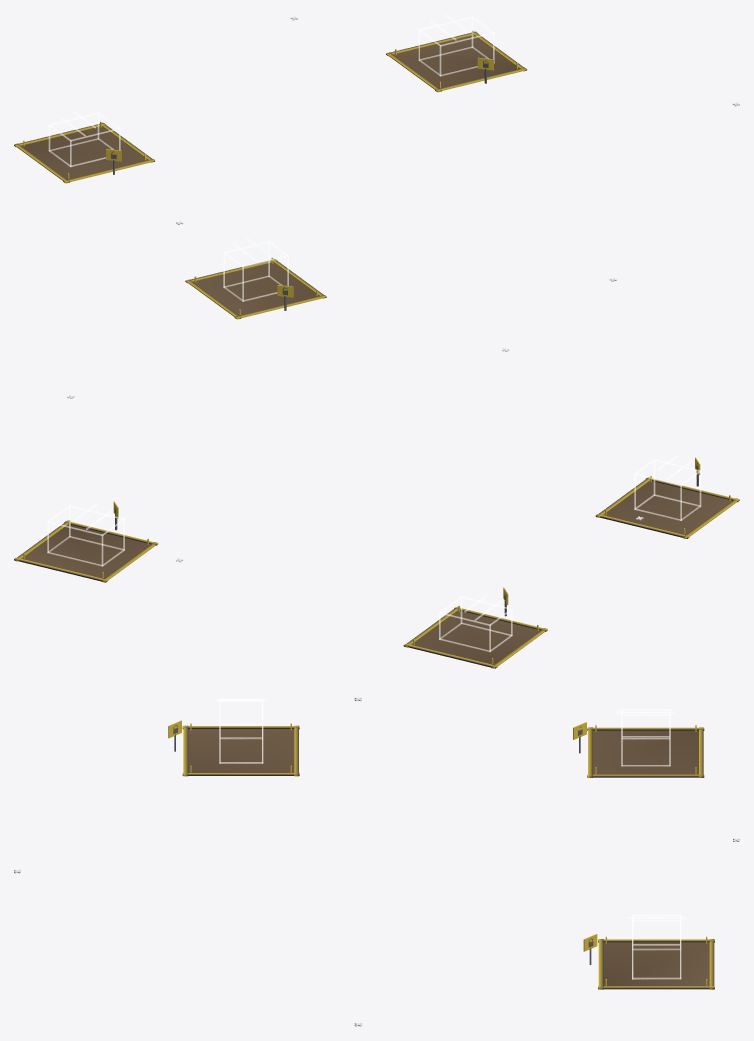
File: Sites_P1.fbx
The picture shows the model from 3 angles, top to bottom: view 1: azimuth 30°, elevation 25°; view 2: azimuth 150°, elevation 25°; view 3: azimuth 270°, elevation 25°; orthographic projection. The views are drawn at different scales.
Visible parts, largest first — view 1: Site.plant.Pad, Site.quarry.Pad, Site.store.Pad, Site.store.Ghost, Site.quarry.Ghost, Site.plant.Ghost; view 2: Site.store.Pad, Site.quarry.Pad, Site.plant.Pad, Site.store.Ghost, Site.plant.Ghost, Site.quarry.Ghost; view 3: Site.store.Pad, Site.quarry.Pad, Site.plant.Pad, Site.store.Ghost, Site.quarry.Ghost, Site.plant.Ghost.
Boxes of the visible parts, x1,y1,x2,y2 form: Site.plant.Pad: [185, 257, 326, 319]; Site.quarry.Pad: [14, 121, 155, 183]; Site.store.Pad: [386, 30, 527, 92]; Site.store.Ghost: [418, 14, 494, 76]; Site.quarry.Ghost: [48, 111, 120, 167]; Site.plant.Ghost: [223, 237, 288, 301]; Site.store.Pad: [14, 519, 158, 582]; Site.quarry.Pad: [403, 605, 547, 668]; Site.plant.Pad: [595, 476, 739, 538]; Site.store.Ghost: [47, 503, 124, 566]; Site.plant.Ghost: [634, 455, 701, 520]; Site.quarry.Ghost: [439, 595, 512, 651]; Site.store.Pad: [598, 936, 714, 989]; Site.quarry.Pad: [587, 725, 704, 777]; Site.plant.Pad: [182, 723, 299, 776]; Site.store.Ghost: [627, 914, 685, 979]; Site.quarry.Ghost: [616, 709, 674, 766]; Site.plant.Ghost: [215, 698, 267, 763].
Size of the model in its own units: 28334 by 2320 by 27269.
